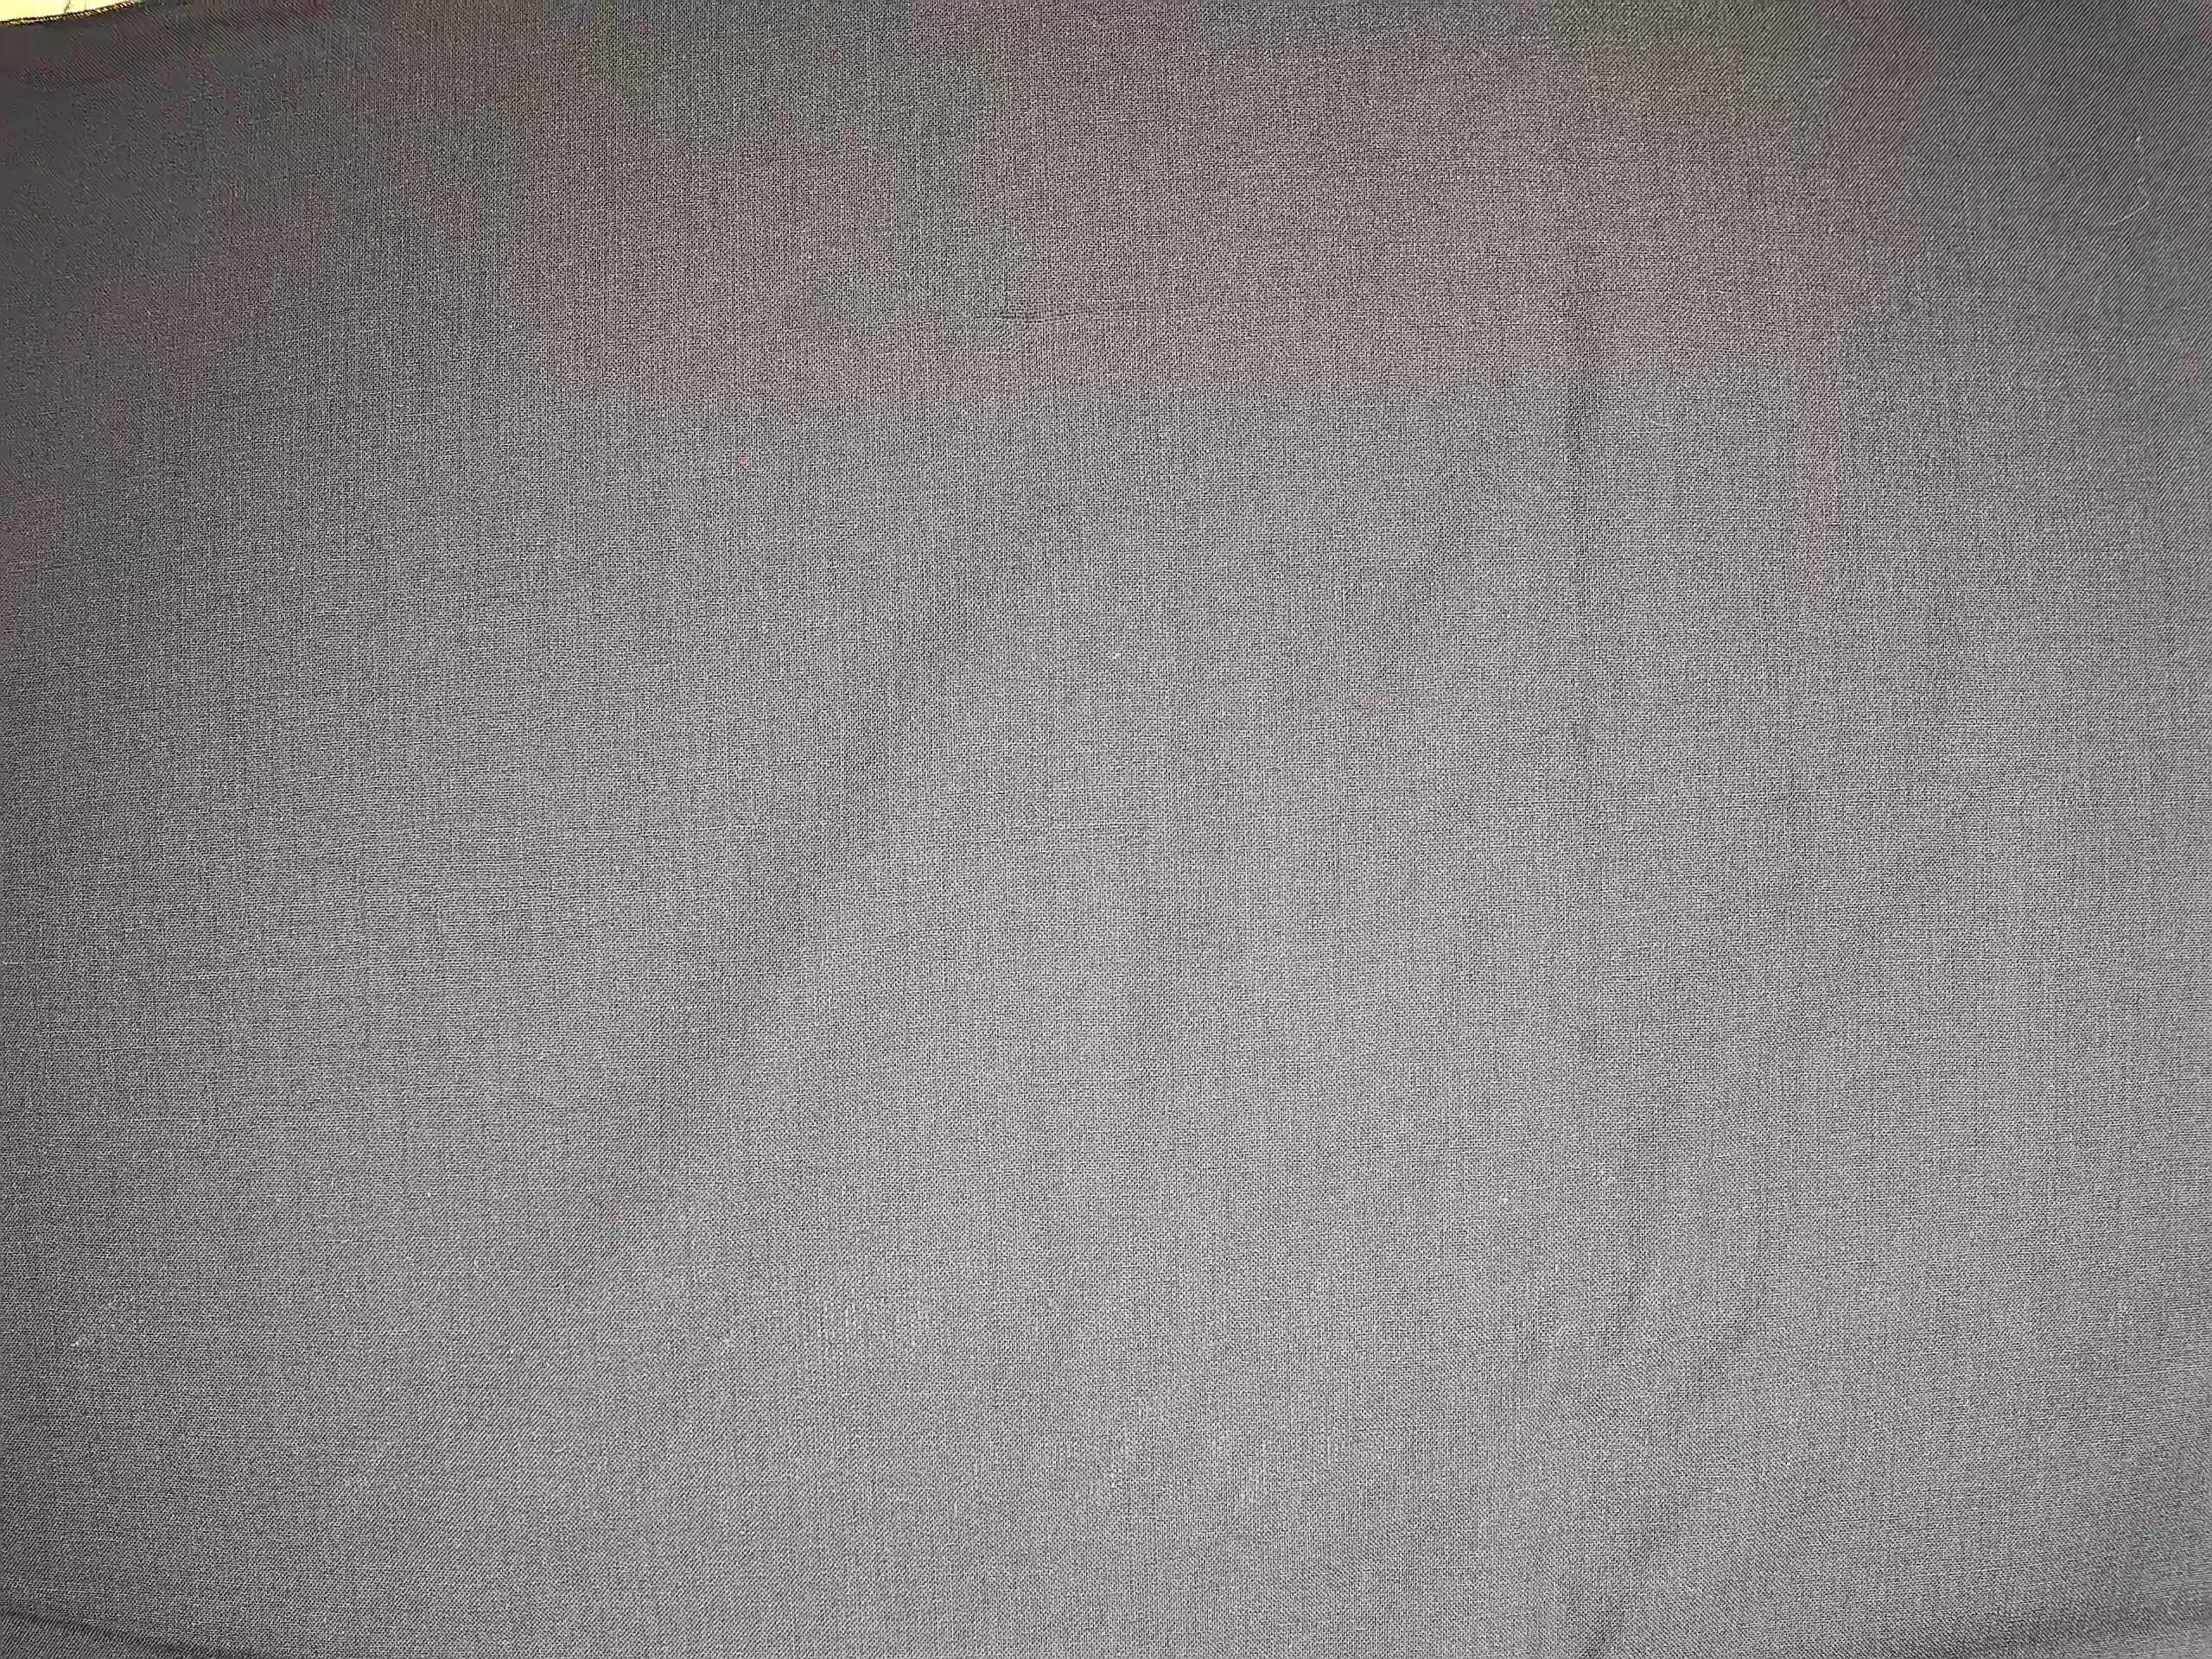thin-spinning: (918, 277, 1141, 368)
